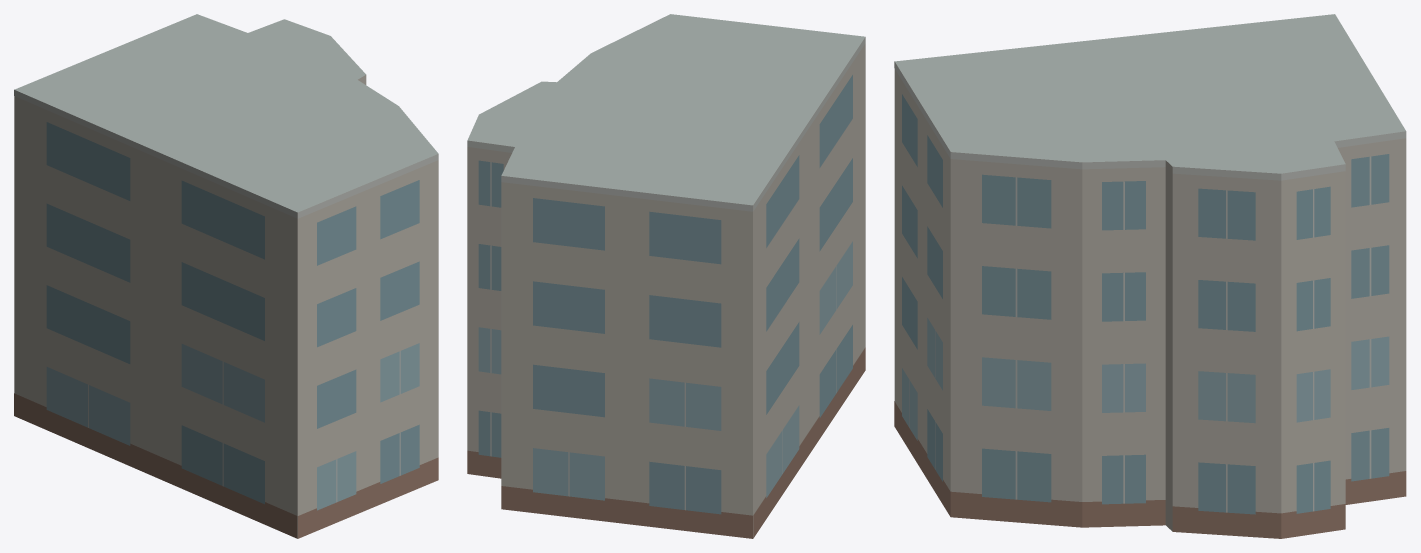
Rendered from survey-upis-32631520.glb.
The picture shows the model from 3 angles, left to right: view 1: azimuth 30°, elevation 25°; view 2: azimuth 150°, elevation 25°; view 3: azimuth 270°, elevation 25°; orthographic projection. The views are drawn at different scales.
Parts seen in each view (by area): view 1: survey-upis-32631520.tmp; view 2: survey-upis-32631520.tmp; view 3: survey-upis-32631520.tmp.
Boxes of the visible parts, <box> form: survey-upis-32631520.tmp: <box>14,14,438,538</box>; survey-upis-32631520.tmp: <box>467,14,865,538</box>; survey-upis-32631520.tmp: <box>894,14,1406,538</box>.
Size of the model in its own units: 12.02 by 12.8 by 16.27.
